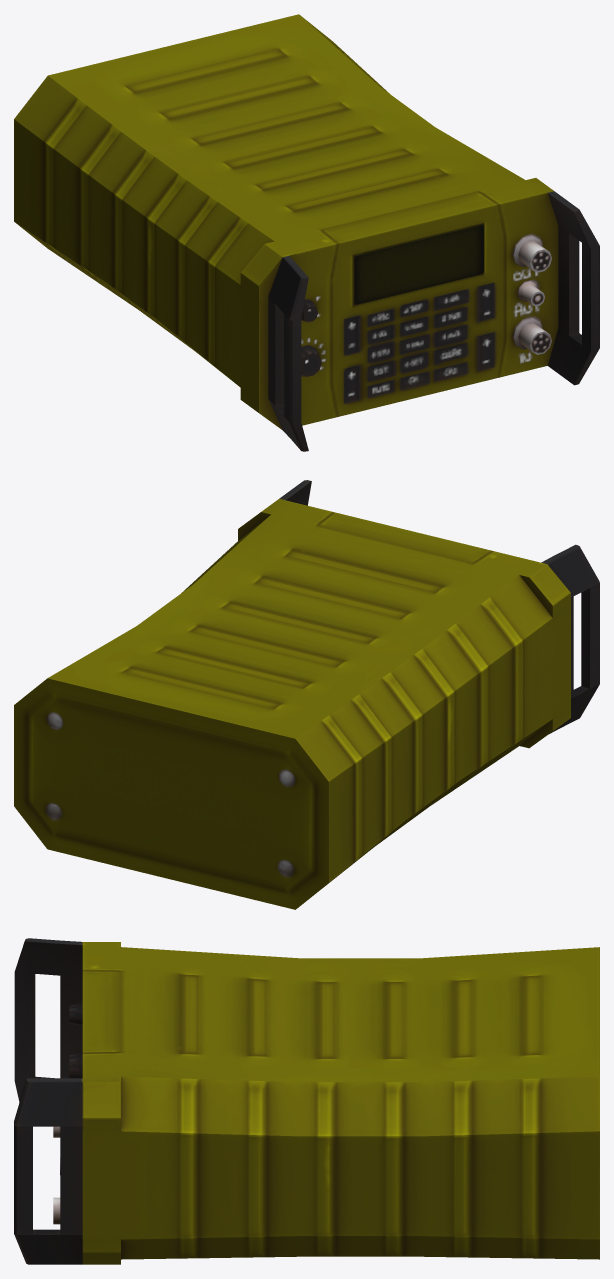
File: ArmyRadio02.FBX
The picture shows the model from 3 angles, top to bottom: view 1: azimuth 30°, elevation 25°; view 2: azimuth 150°, elevation 25°; view 3: azimuth 270°, elevation 25°; orthographic projection. The views are drawn at different scales.
Parts seen in each view (by area): view 1: ArmyRadio02; view 2: ArmyRadio02; view 3: ArmyRadio02.
Boxes of the visible parts, bbox=[...] form: ArmyRadio02: bbox=[14, 14, 599, 451]; ArmyRadio02: bbox=[14, 480, 599, 909]; ArmyRadio02: bbox=[14, 938, 599, 1264].
Size of what is drawn, in the model's own units: 0.4973 by 0.2581 by 0.7494.
